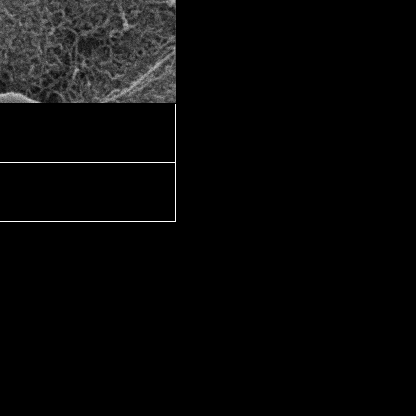regular: (0, 94, 40, 104)
